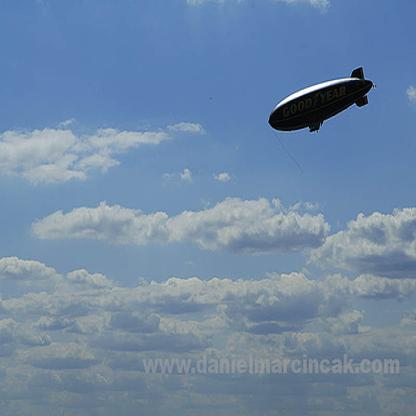Airship: (264, 67, 381, 144)
